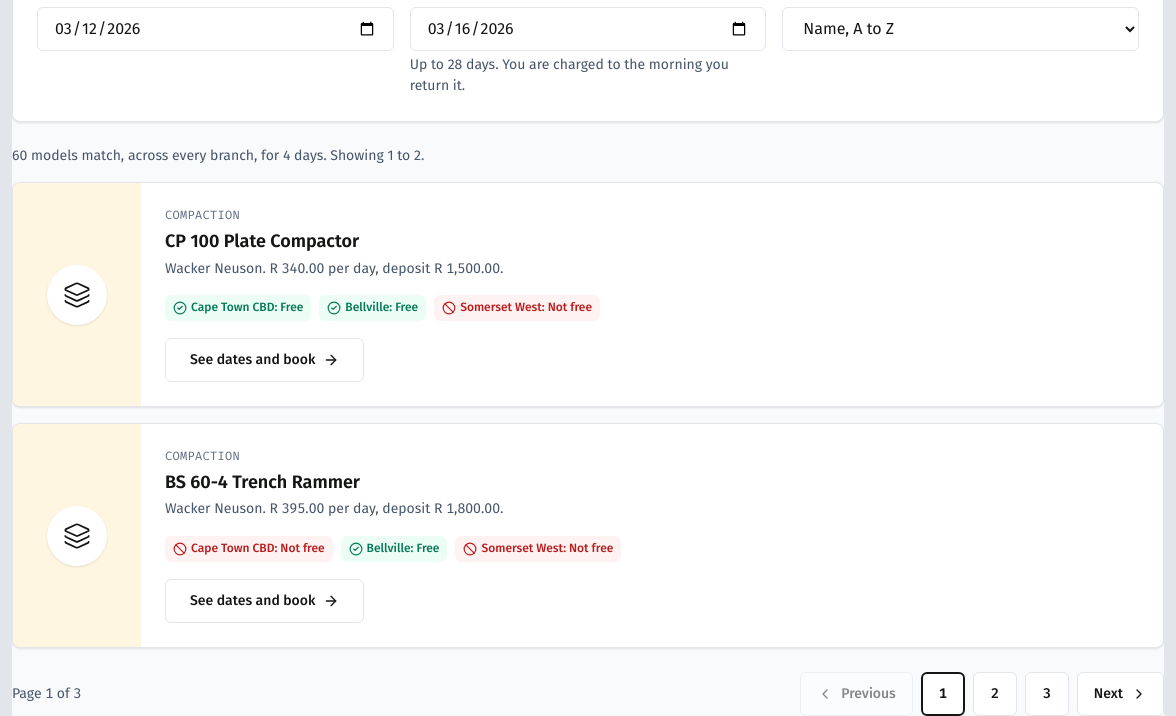
Test: with more results than fit on a page › asks for the next page and puts it in the address
(page scrolled)
Click the button "Next" at [1120, 694], box [1077,672,1164,715]
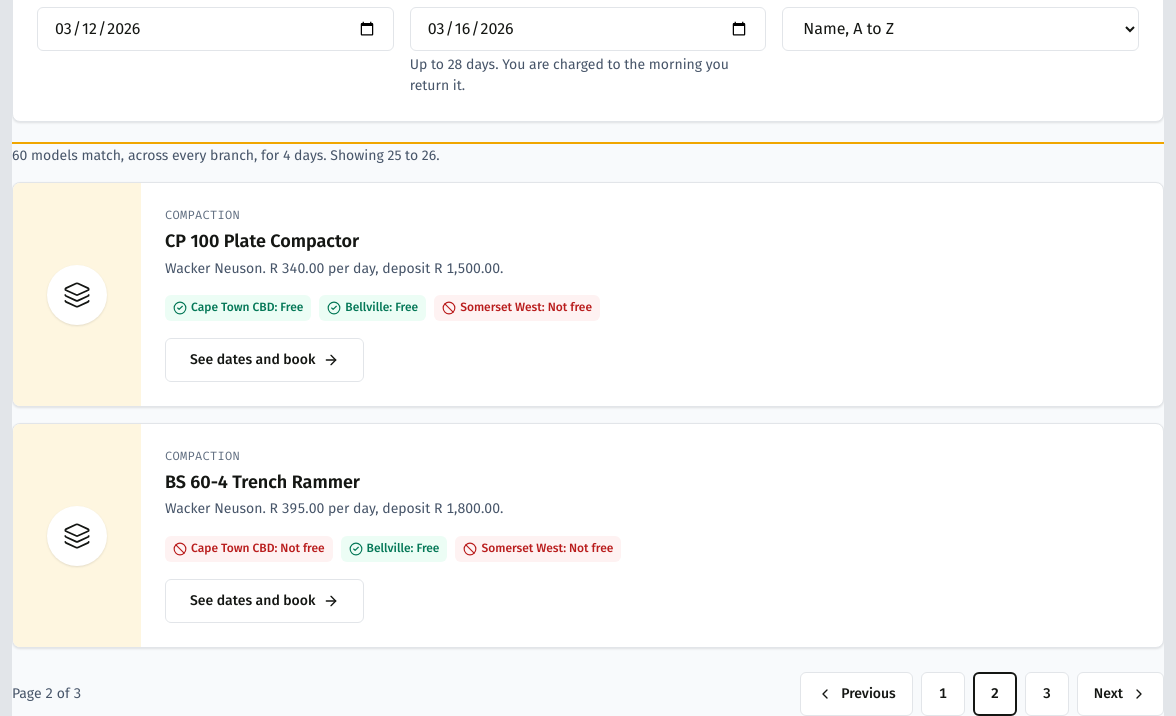
Expected: the message "Page 2 of 3" is shown, [12,684,81,704]
